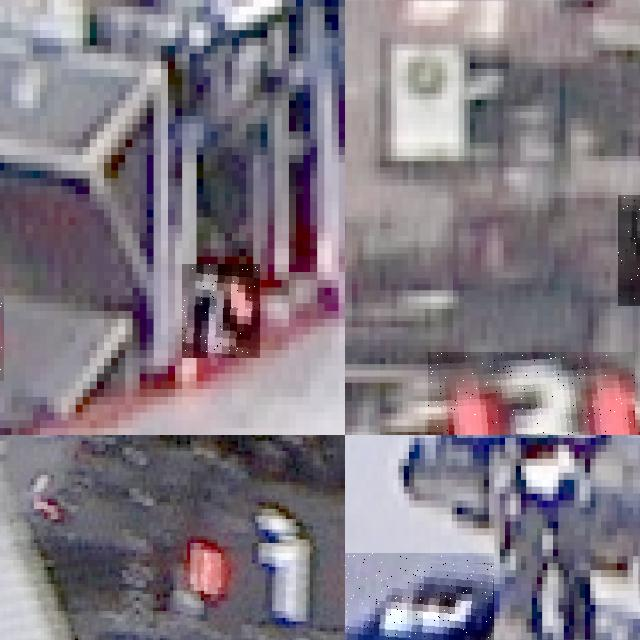B3: (345, 552, 494, 640)
R1: (168, 524, 345, 619)
R2: (182, 264, 260, 358)
R3: (427, 352, 635, 435)
